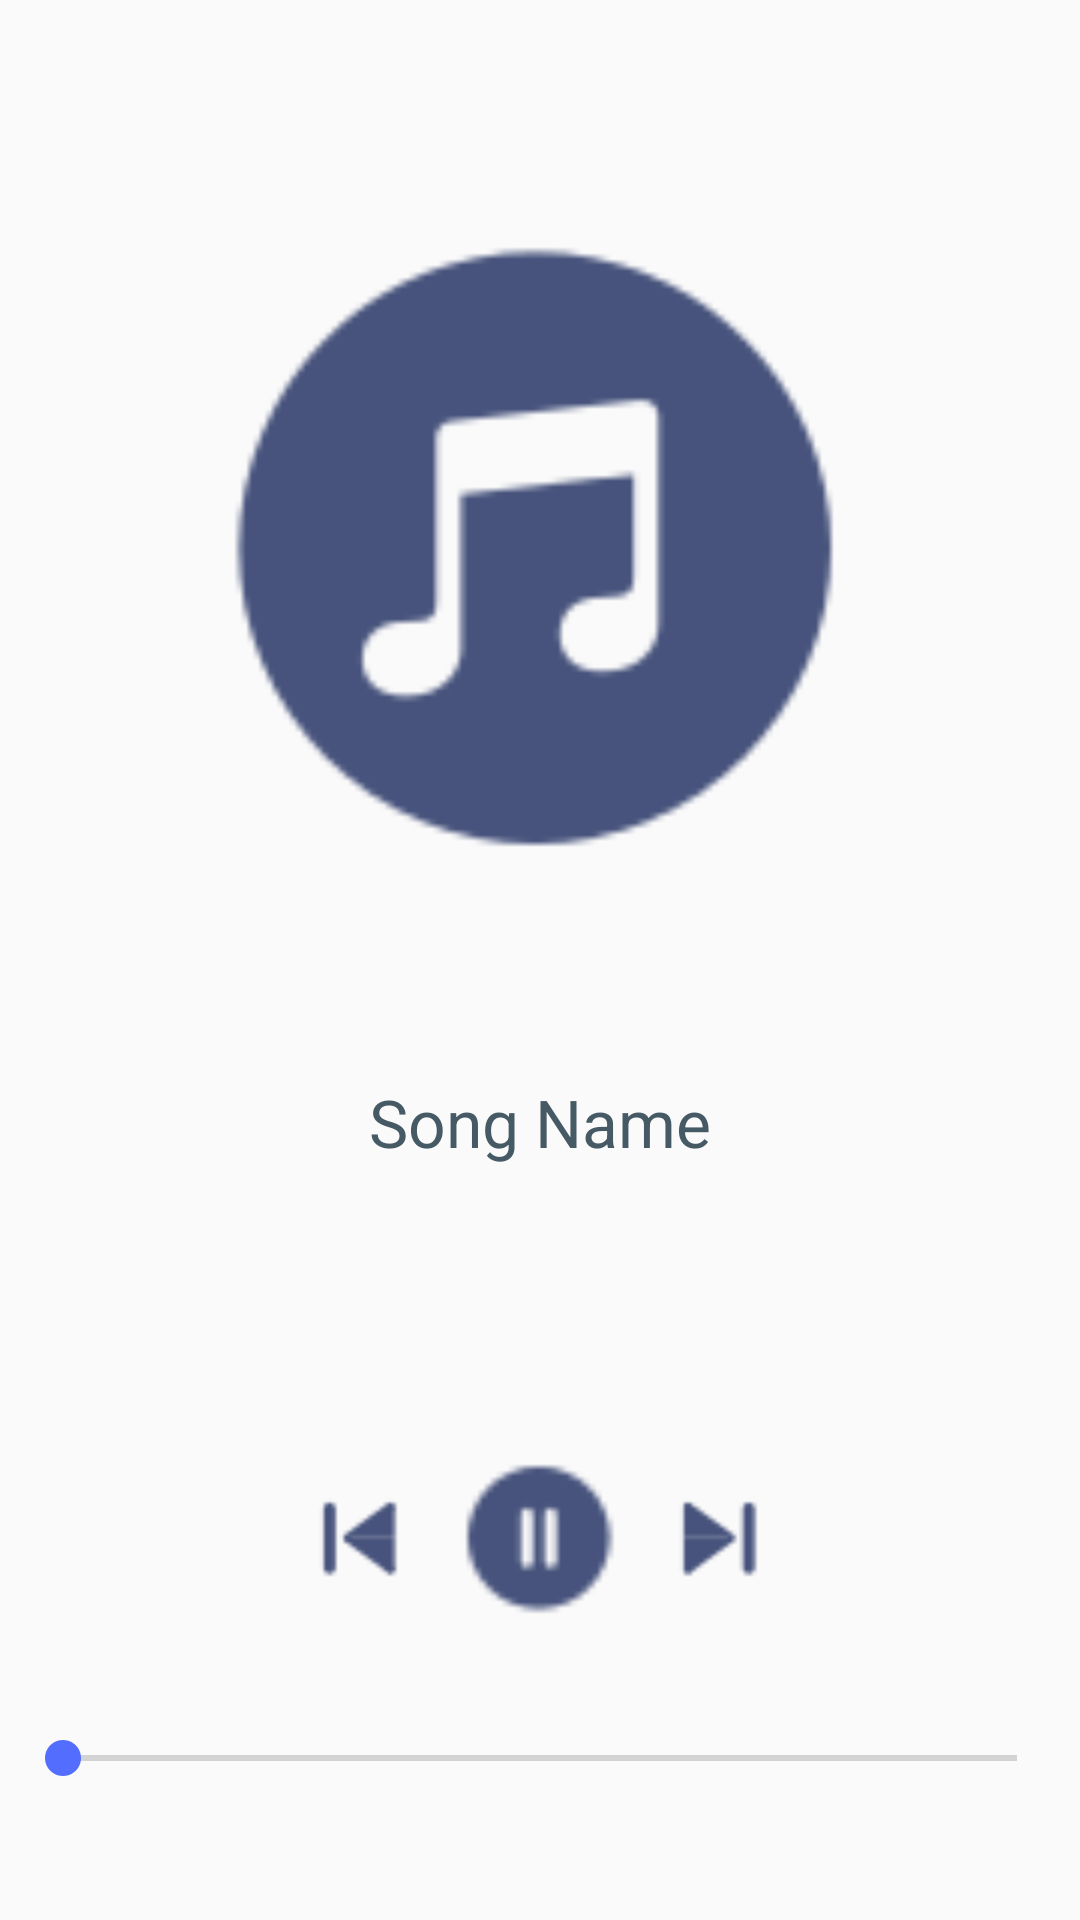

Icons on this 1080px x 1920px Android screen, each with its box as (x1, y1, x2, y2):
next: (682, 1501, 757, 1576)
pause: (466, 1465, 614, 1613)
previous: (322, 1501, 397, 1576)
